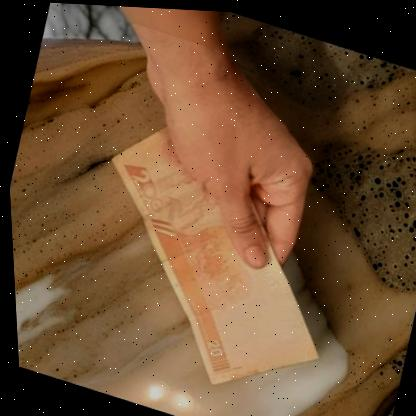vef_back: (56, 106, 364, 414)
